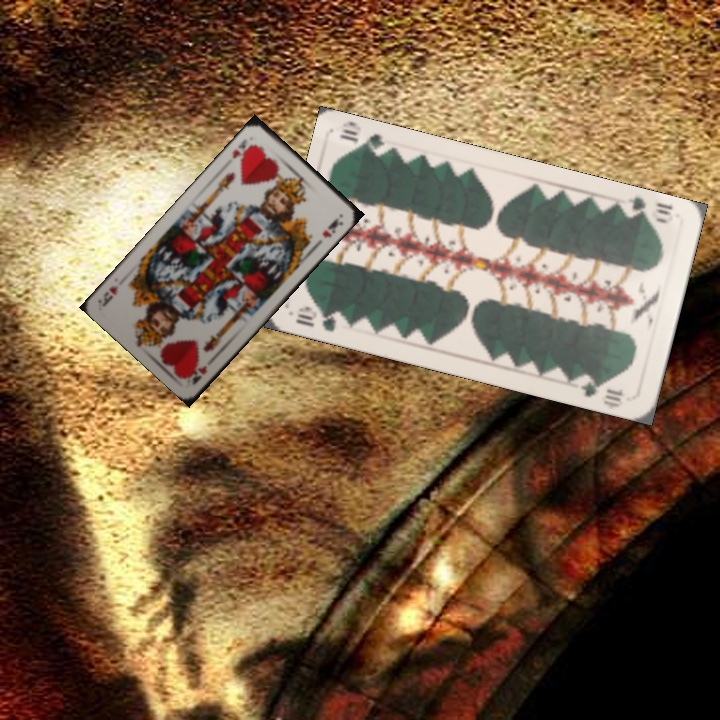G10: (618, 193, 676, 226), (292, 302, 339, 335)
HK: (228, 134, 258, 163), (184, 361, 210, 387)
